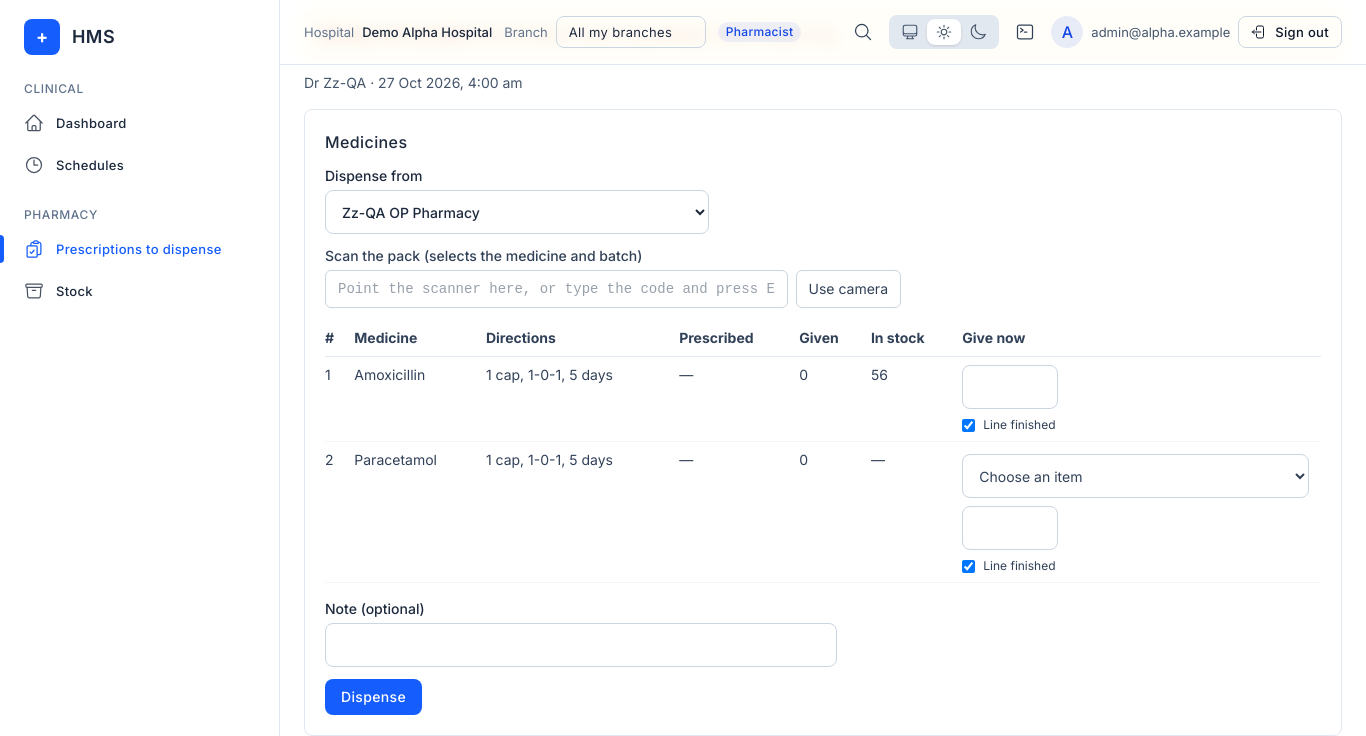
Test: Pharmacy dispensing › asks for a quantity and for an item on an unlinked line
(page scrolled)
Expected: the dropdown with test id "dispense-store" shows "Zz-QA OP Pharmacy", [325,190,709,234]
Click the button with test id "dispense-submit" at (374, 697), box [325,679,422,715]
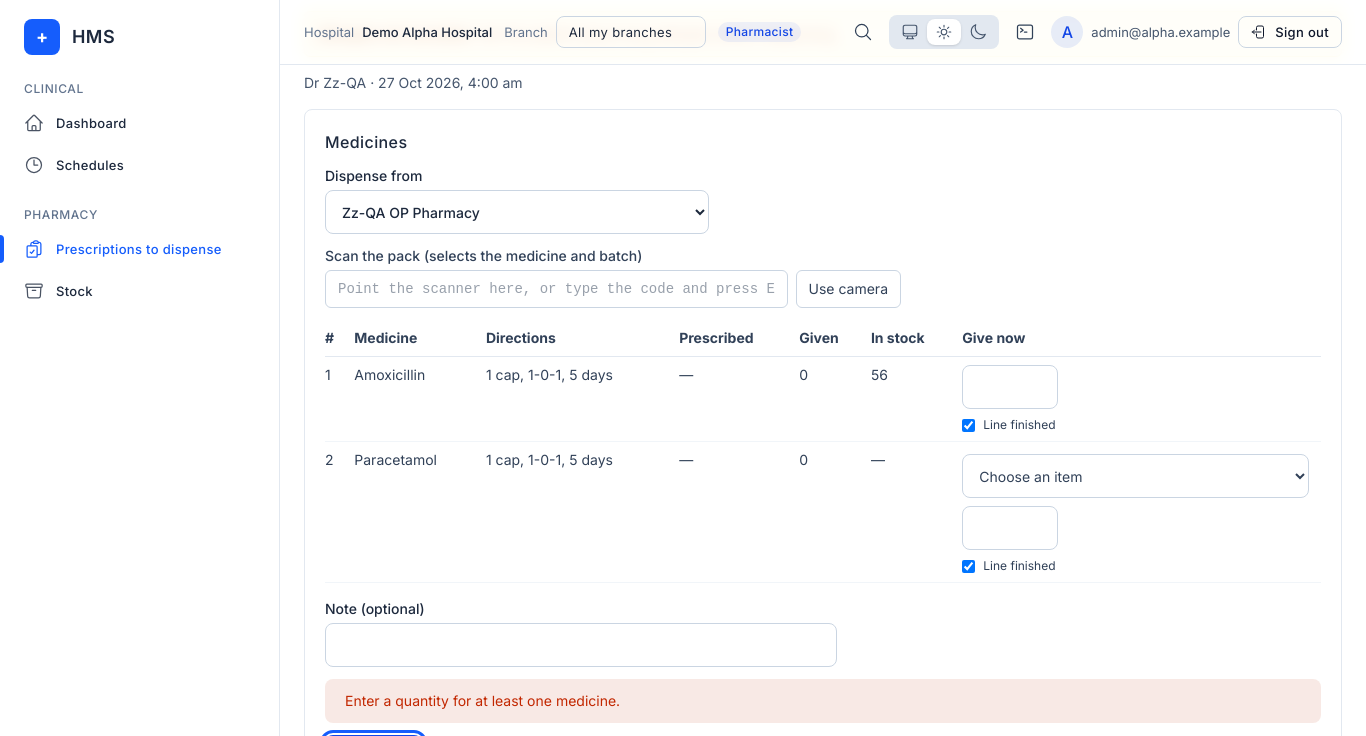
Expected: the text "Enter a quantity for at least one medicine." is shown, [325,679,1321,723]
Type "4" into the field named "Quantity for line 2" at (1010, 528), box [962,506,1058,550]
(page scrolled)
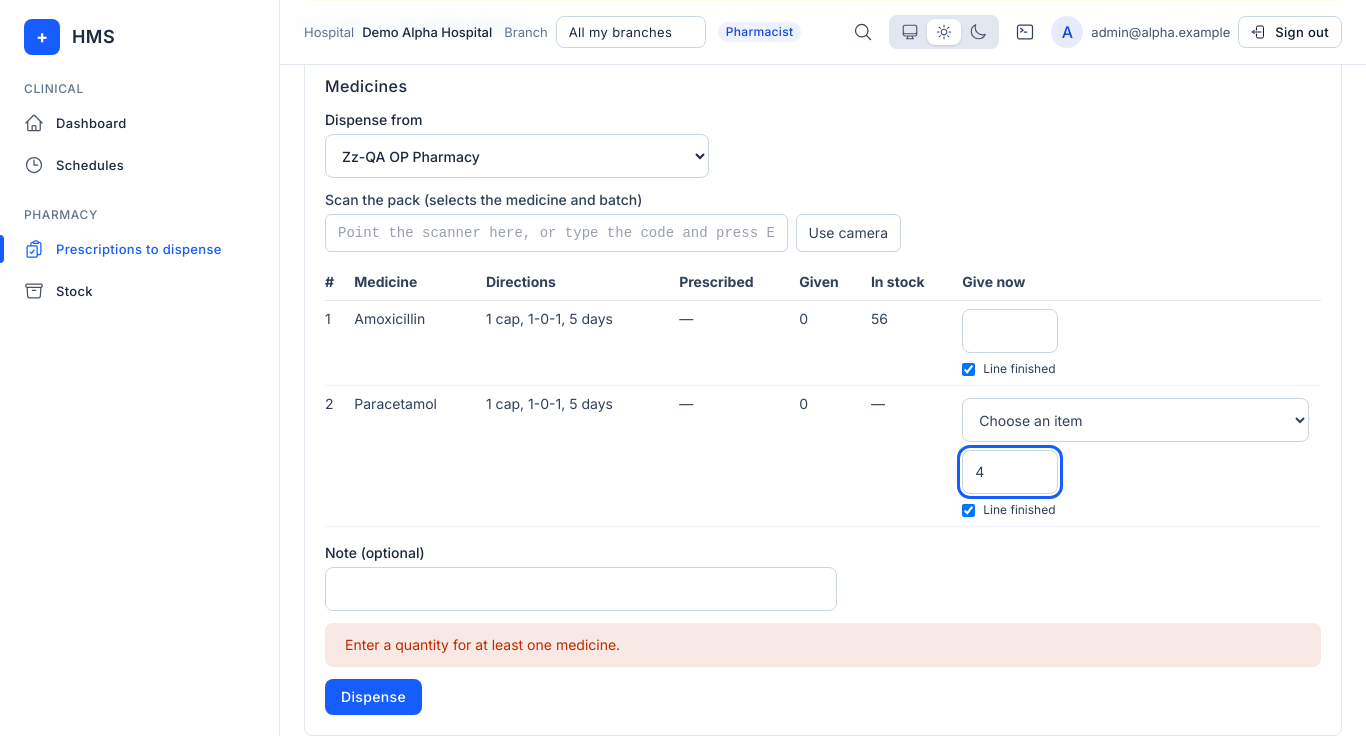
Click the button with test id "dispense-submit" at (374, 697), box [325,679,422,715]
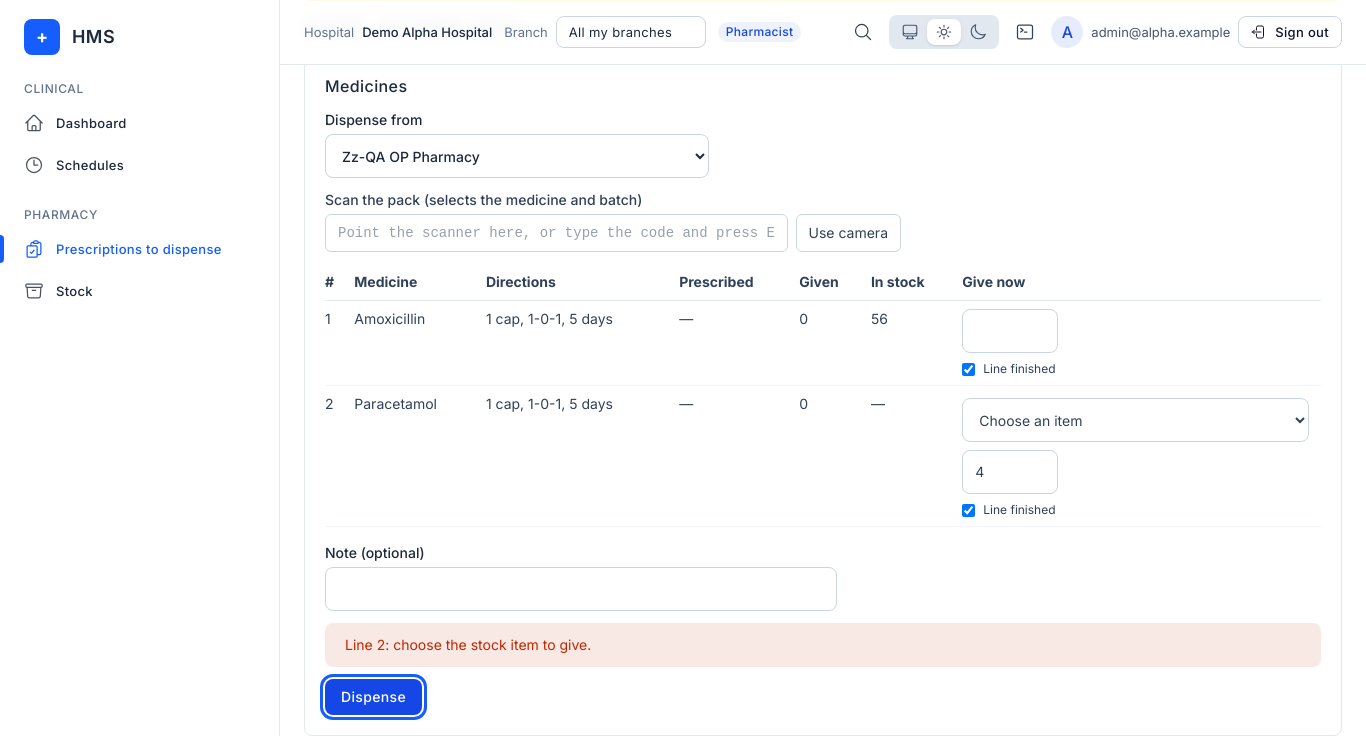
Expected: the text "Line 2: choose the stock item to give." is shown, [325,623,1321,667]
